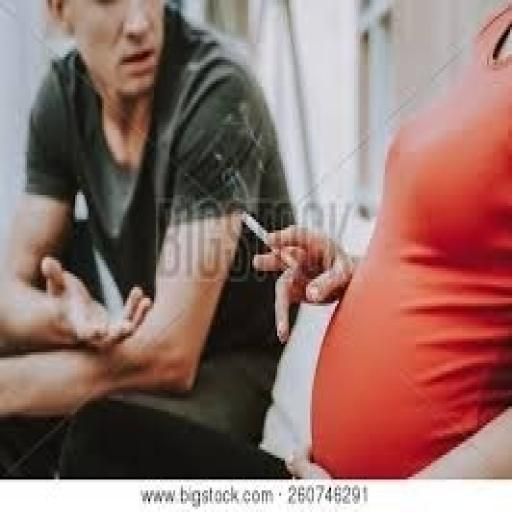sitting: (0, 0, 298, 477), (250, 0, 510, 479)
